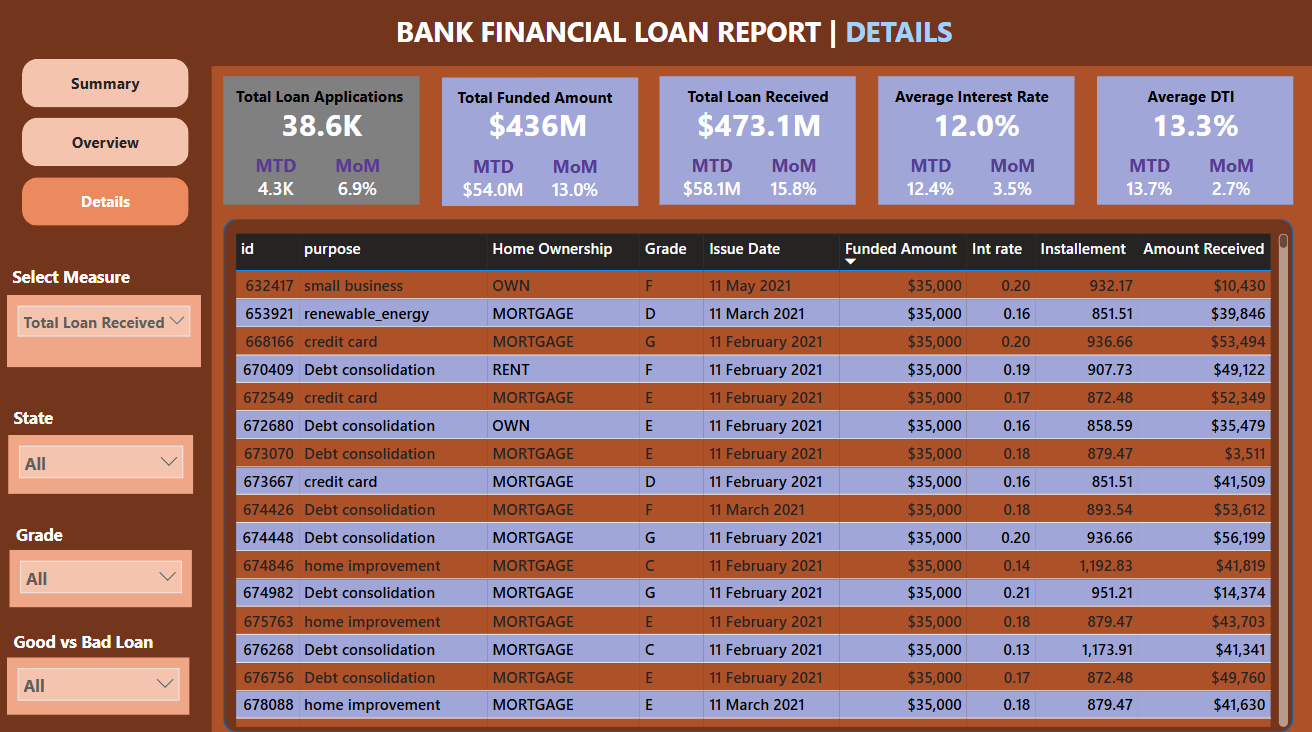

Layout of this report page (visuals, bound fields, positions):
{"tool":"powerbi","page":{"name":"Details","canvas":[1280,720],"ordinal":2},"visuals":[{"type":"shape","box":[0,0,1280.3,68.6],"z":0},{"type":"shape","box":[218.4,78.4,189.4,124.3],"z":0,"group":"g1"},{"type":"shape","box":[640.1,78.4,189.4,124.3],"z":0,"group":"g3"},{"type":"shape","box":[850.9,78.4,189.4,124.3],"z":0,"group":"g4"},{"type":"shape","box":[1061.7,78.4,189.4,124.3],"z":0,"group":"g5"},{"type":"shape","box":[429.2,79.6,189.4,124.3],"z":0,"group":"g2"},{"type":"shape","box":[0,45.8,207.5,674.4],"z":1000},{"type":"card","fields":{"Values":["financial_loan.Total Loan Received"]},"box":[666.5,92.4,139.9,65.1],"z":1000,"group":"g3"},{"type":"card","fields":{"Values":["financial_loan.Total Loan Applications"]},"box":[263,96.5,101.3,57.9],"z":1000,"group":"g1"},{"type":"card","fields":{"Values":["financial_loan.Avg Interest Rate"]},"box":[895.2,96.5,101.3,57.9],"z":1000,"group":"g4"},{"type":"card","fields":{"Values":["financial_loan.Average DTI"]},"box":[1106.3,96.5,101.3,57.9],"z":1000,"group":"g5"},{"type":"card","fields":{"Values":["financial_loan.Total Funded Amount"]},"box":[459.1,96.9,125.5,57.9],"z":1000,"group":"g2"},{"type":"textbox","box":[207.5,82,211.1,43.4],"z":2000,"group":"g1"},{"type":"textbox","box":[628.6,82,211.1,43.4],"z":2000,"group":"g3"},{"type":"textbox","box":[839.7,82,211.1,43.4],"z":2000,"group":"g4"},{"type":"textbox","box":[1050.8,82,211.1,43.4],"z":2000,"group":"g5"},{"type":"textbox","box":[417.4,83.2,211.1,43.4],"z":2000,"group":"g2"},{"type":"group","id":"g1","title":"Group 1","box":[207.5,78.4,211.1,124.3],"z":3000},{"type":"card","title":"MTD ","fields":{"Values":["financial_loan.MTD Loan Applications"]},"box":[224.4,152,89.3,50.7],"z":3000,"group":"g1"},{"type":"card","title":"MTD ","fields":{"Values":["financial_loan.MTD Loan Recieved"]},"box":[645.5,152,89.3,50.7],"z":3000,"group":"g3"},{"type":"card","title":"MTD ","fields":{"Values":["financial_loan.MTD Avg Interest Rate"]},"box":[856.6,152,89.3,50.7],"z":3000,"group":"g4"},{"type":"card","title":"MTD ","fields":{"Values":["financial_loan.MTD Avg DTI"]},"box":[1067.7,152,89.3,50.7],"z":3000,"group":"g5"},{"type":"card","title":"MTD ","fields":{"Values":["financial_loan.MTD Funded Amount"]},"box":[434.3,153.2,89.3,50.7],"z":3000,"group":"g2"},{"type":"group","id":"g2","title":"Group 1","box":[417.4,79.6,211.1,124.3],"z":4000},{"type":"card","title":"MoM ","fields":{"Values":["financial_loan.MoM Loan Applications"]},"box":[304,152,88.1,50.7],"z":4000,"group":"g1"},{"type":"card","title":"MoM ","fields":{"Values":["financial_loan.MoM Loan Received"]},"box":[725.1,152,88.1,50.7],"z":4000,"group":"g3"},{"type":"card","title":"MoM ","fields":{"Values":["financial_loan.MoM Avg Int rate"]},"box":[936.2,152,88.1,50.7],"z":4000,"group":"g4"},{"type":"card","title":"MoM ","fields":{"Values":["financial_loan.MoM Avg DTI"]},"box":[1147.3,152,88.1,50.7],"z":4000,"group":"g5"},{"type":"card","title":"MoM ","fields":{"Values":["financial_loan.MoM Funded Amount"]},"box":[513.9,153.2,88.1,50.7],"z":4000,"group":"g2"},{"type":"group","id":"g3","title":"Group 1","box":[628.6,78.4,211.1,124.3],"z":5000},{"type":"group","id":"g4","title":"Group 1","box":[839.7,78.4,211.1,124.3],"z":7000},{"type":"group","id":"g5","title":"Group 1","box":[1050.8,78.4,211.1,124.3],"z":8000},{"type":"slicer","fields":{"Values":["financial_loan.address_state"]},"box":[10.9,424.7,178.6,56.7],"z":9000},{"type":"textbox","box":[10.9,392.1,112.2,32.6],"z":10000},{"type":"slicer","fields":{"Values":["financial_loan.grade"]},"box":[12.1,535.7,176.1,55.5],"z":11000},{"type":"textbox","box":[13.3,504.3,86.9,31.4],"z":12000},{"type":"slicer","fields":{"Values":["financial_loan.Good vs Bad loan"]},"box":[9.7,639.4,176.1,55.5],"z":13000},{"type":"textbox","box":[10.9,608,178.6,31.4],"z":14000},{"type":"slicer","fields":{"Values":["Select Measure.Select Measure"]},"box":[9.7,289.5,187,70],"z":16000},{"type":"textbox","box":[9.7,255.8,136.3,33.8],"z":17000},{"type":"shape","box":[218.4,216,1032.7,495.8],"z":17001},{"type":"tableEx","fields":{"Values":["financial_loan.id","financial_loan.purpose","financial_loan.home_ownership","financial_loan.grade","financial_loan.issue_date","financial_loan.Total Funded Amount","Sum(financial_loan.int_rate)","Sum(financial_loan.installment)","financial_loan.Total Loan Received"]},"box":[224.4,225.6,1026.7,486.2],"z":17002},{"type":"pageNavigator","box":[24.1,61.5,161.7,162.9],"z":17004}]}

Visuals, with their boxes in screenshot pixels (x1, y1, x2, y2), scaled from the page's 1280x720 canvas onto the 1312x732 screenshot:
shape: bbox(0, 0, 1311, 70)
shape: bbox(224, 80, 418, 206)
shape: bbox(656, 80, 850, 206)
shape: bbox(872, 80, 1066, 206)
shape: bbox(1088, 80, 1282, 206)
shape: bbox(440, 81, 634, 207)
shape: bbox(0, 47, 213, 731)
card - financial_loan.Total Loan Received: bbox(683, 94, 827, 160)
card - financial_loan.Total Loan Applications: bbox(270, 98, 373, 157)
card - financial_loan.Avg Interest Rate: bbox(918, 98, 1021, 157)
card - financial_loan.Average DTI: bbox(1134, 98, 1238, 157)
card - financial_loan.Total Funded Amount: bbox(471, 99, 599, 157)
textbox: bbox(213, 83, 429, 127)
textbox: bbox(644, 83, 861, 127)
textbox: bbox(861, 83, 1077, 127)
textbox: bbox(1077, 83, 1293, 127)
textbox: bbox(428, 85, 644, 129)
"Group 1" group: bbox(213, 80, 429, 206)
"MTD " card: bbox(230, 155, 322, 206)
"MTD " card: bbox(662, 155, 753, 206)
"MTD " card: bbox(878, 155, 970, 206)
"MTD " card: bbox(1094, 155, 1186, 206)
"MTD " card: bbox(445, 156, 537, 207)
"Group 1" group: bbox(428, 81, 644, 207)
"MoM " card: bbox(312, 155, 402, 206)
"MoM " card: bbox(743, 155, 834, 206)
"MoM " card: bbox(960, 155, 1050, 206)
"MoM " card: bbox(1176, 155, 1266, 206)
"MoM " card: bbox(527, 156, 617, 207)
"Group 1" group: bbox(644, 80, 861, 206)
"Group 1" group: bbox(861, 80, 1077, 206)
"Group 1" group: bbox(1077, 80, 1293, 206)
slicer - financial_loan.address_state: bbox(11, 432, 194, 489)
textbox: bbox(11, 399, 126, 432)
slicer - financial_loan.grade: bbox(12, 545, 193, 601)
textbox: bbox(14, 513, 103, 545)
slicer - financial_loan.Good vs Bad loan: bbox(10, 650, 190, 706)
textbox: bbox(11, 618, 194, 650)
slicer - Select Measure.Select Measure: bbox(10, 294, 202, 365)
textbox: bbox(10, 260, 150, 294)
shape: bbox(224, 220, 1282, 724)
tableEx - financial_loan.id x financial_loan.purpose: bbox(230, 229, 1282, 724)
pageNavigator: bbox(25, 63, 190, 228)
